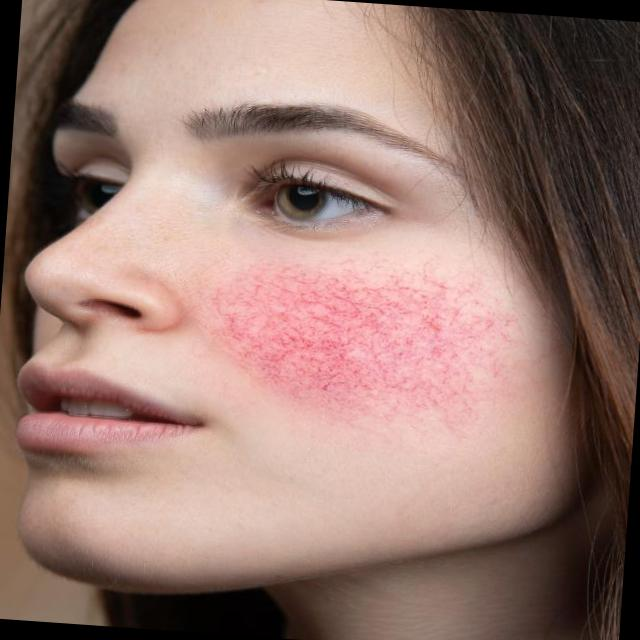redness: (216, 270, 493, 425)
